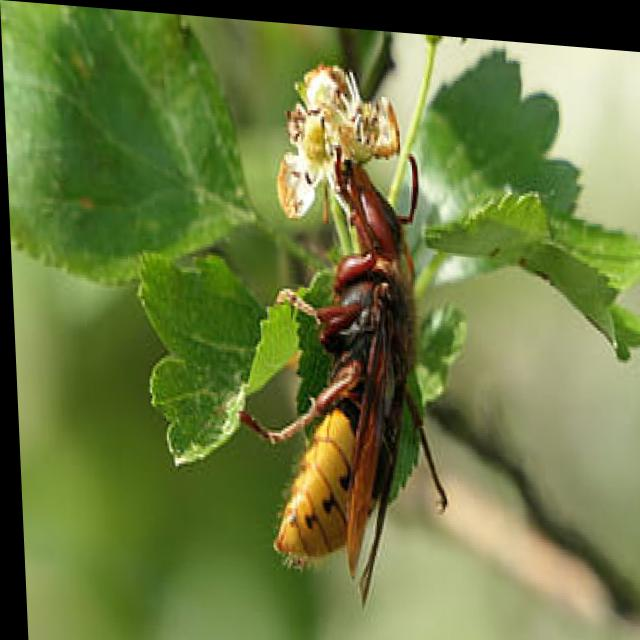Vespa Crabro: (154, 63, 464, 632)
